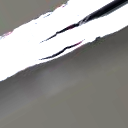crackTip: (33, 1, 128, 60)
